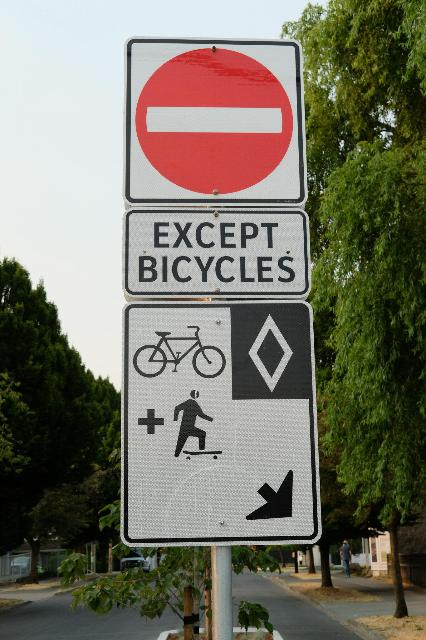B2: (122, 36, 307, 206)
